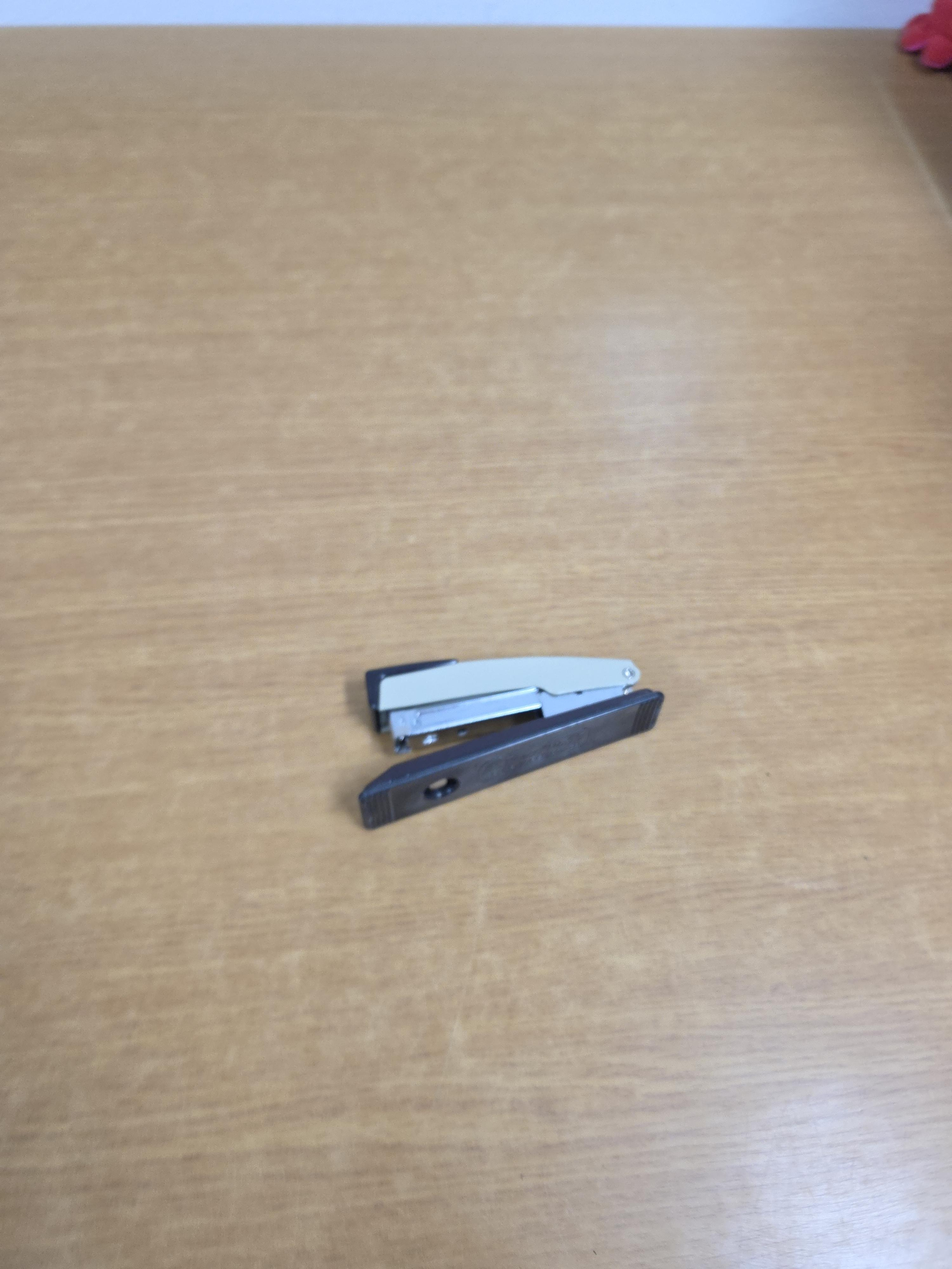stapler: (359, 655, 664, 830)
